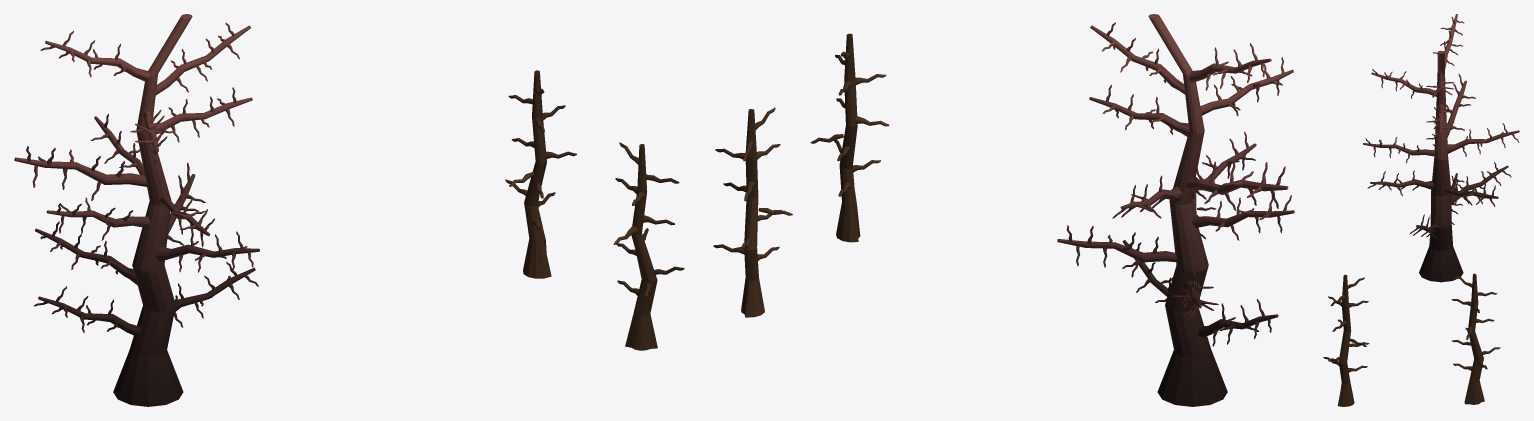
File: tree.fbx
3 views of the same model, side by side, from view 1: azimuth 30°, elevation 25°; view 2: azimuth 150°, elevation 25°; view 3: azimuth 270°, elevation 25° (orthographic). The views are drawn at different scales.
Parts seen in each view (by area): view 1: Cylinder.001, Cylinder.168, Cylinder; view 2: Cylinder.001, Cylinder, Cylinder.168; view 3: Cylinder.001, Cylinder, Cylinder.168.
Part boxes in pixels (x1,y1,x2,y2): Cylinder.001: (14,14,259,406); Cylinder.168: (613,142,684,350); Cylinder: (505,70,576,278); Cylinder.001: (1057,14,1294,406); Cylinder: (713,107,792,317); Cylinder.168: (810,33,889,242); Cylinder.001: (1363,14,1519,282); Cylinder: (1451,273,1500,404); Cylinder.168: (1323,274,1369,406).
Size of the model in its own units: 1894 by 1197 by 903.
Materials: 1 (1 with a texture image).
